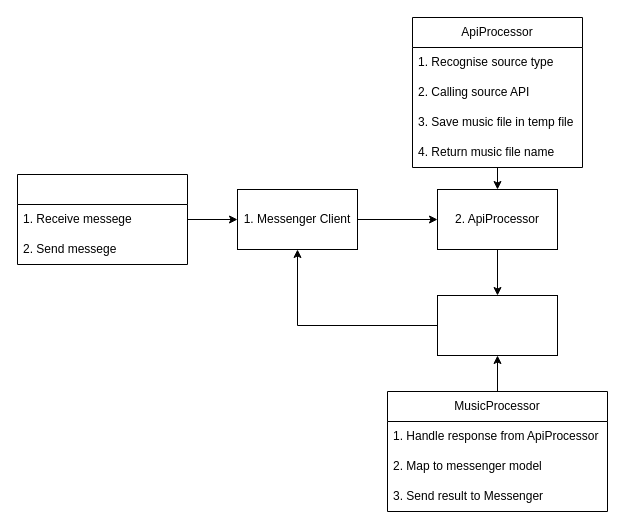
The diagram is 625 pixels wide and 529 high, and some of its shapes have lost their labels. Each missing label, with the box of its shape:
3. MusicProcessor: (436, 294, 558, 356)
Messenger: (16, 174, 188, 264)
